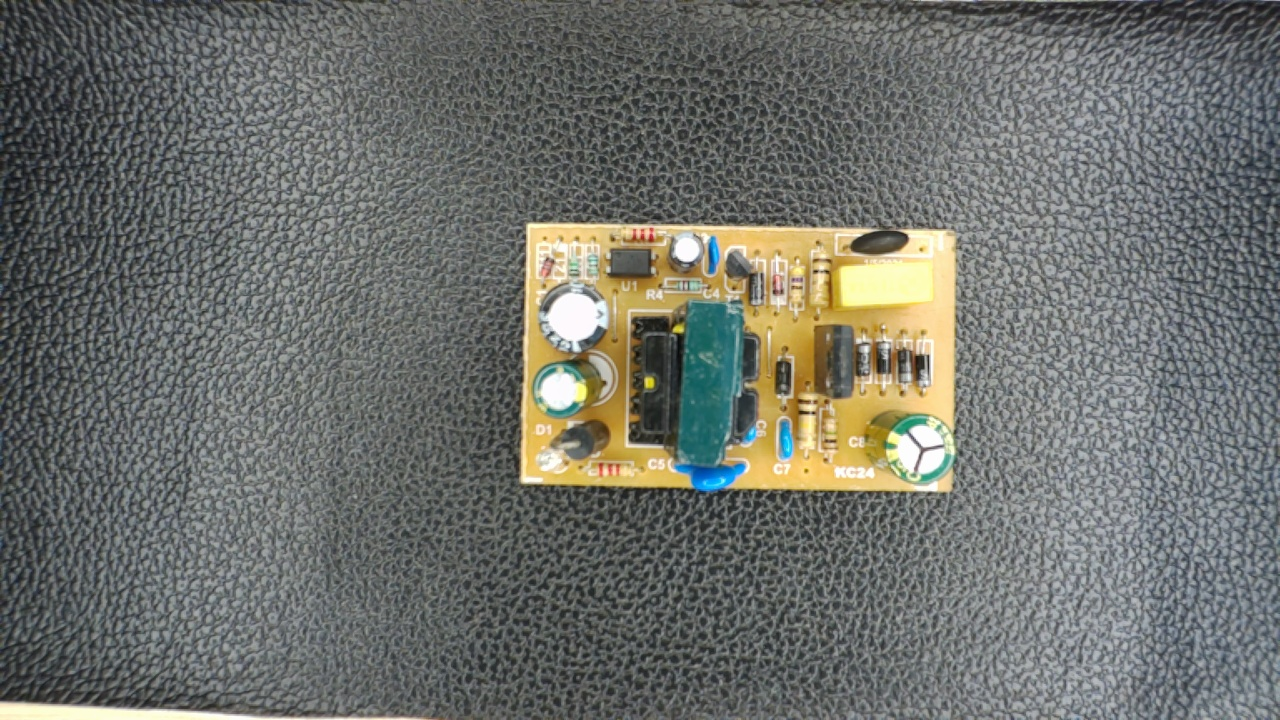fuse: (837, 225, 920, 257)
hv_capacitor: (864, 408, 954, 485)
mov: (666, 459, 755, 488)
optocoupler: (600, 246, 665, 278)
